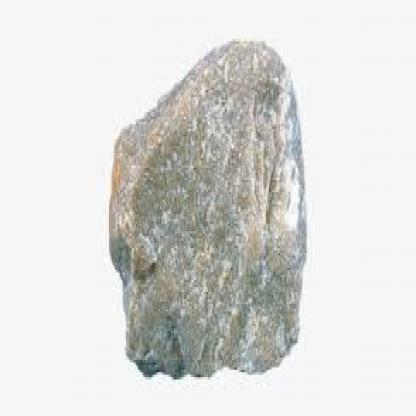Metamorphic_Quartize: (100, 17, 310, 375)
